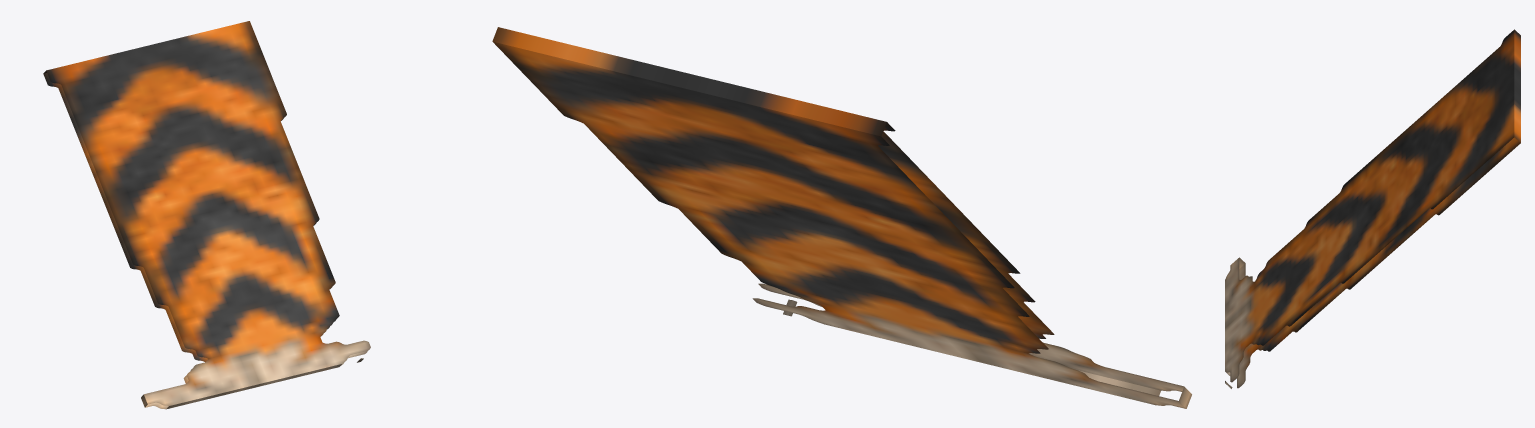
Rendered from feather_nok_01.dae.
The picture shows the model from 3 angles, left to right: view 1: azimuth 30°, elevation 25°; view 2: azimuth 150°, elevation 25°; view 3: azimuth 270°, elevation 25°; orthographic projection. The views are drawn at different scales.
Visible parts, largest first — view 1: a_feather_nok_01; view 2: a_feather_nok_01; view 3: a_feather_nok_01.
Part boxes in pixels (x1,y1,x2,y2): a_feather_nok_01: (43,21,370,409); a_feather_nok_01: (492,27,1191,408); a_feather_nok_01: (1225,29,1520,388).
Bounding box in the file's own units: 0.7126 × 0.6449 × 0.6302.
